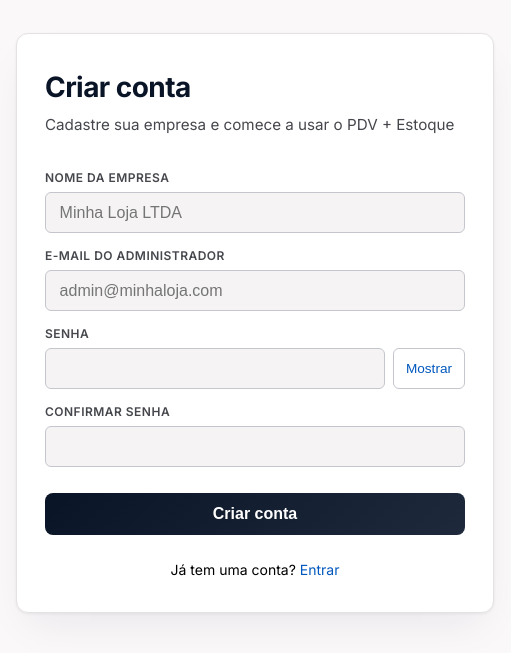
Test case: RegisterTenantPage › exibe mensagem de erro da API quando o registro falha
In the field labelled "Nome da empresa": (255, 213) top-left (45, 192), bottom-right (465, 233), type "Loja Duplicada"
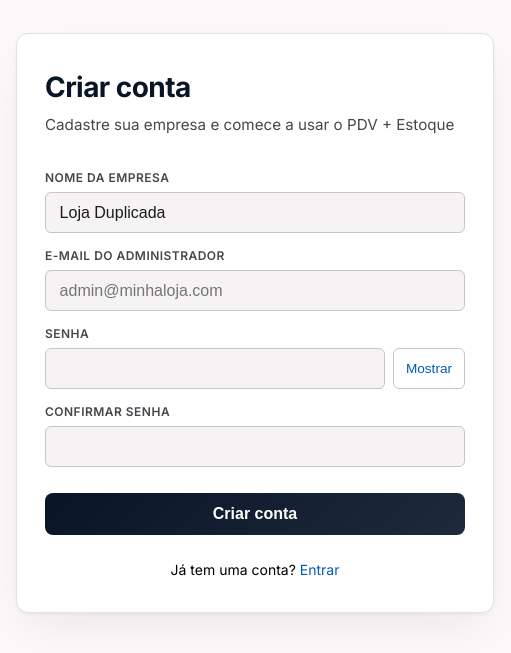
In the field labelled "E-mail do administrador": (255, 291) top-left (45, 270), bottom-right (465, 311), type "admin@dup.com"
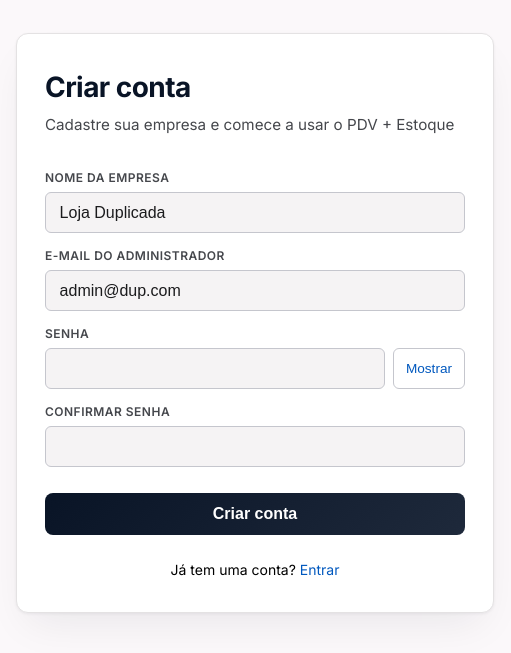
In the password field labelled "Senha": (215, 369) top-left (45, 348), bottom-right (385, 389), type "senha123"
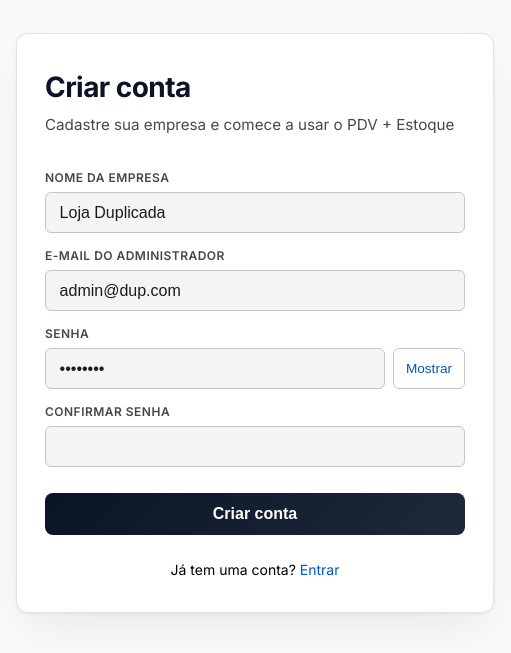
In the password field labelled "Confirmar senha": (255, 447) top-left (45, 426), bottom-right (465, 467), type "senha123"
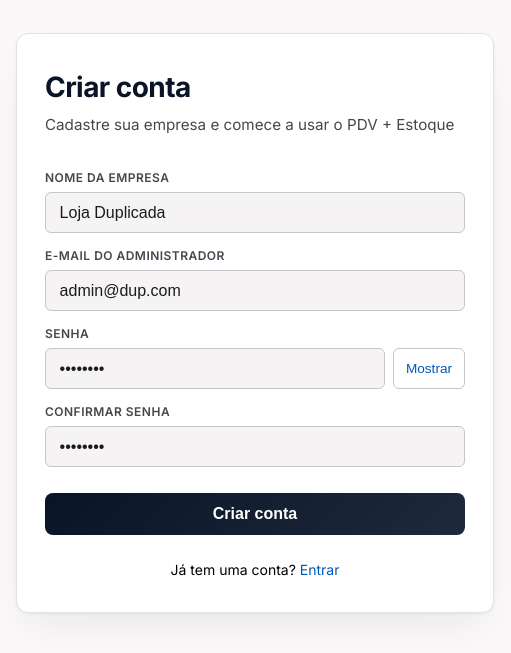
Click the button "Criar conta": (255, 514) top-left (45, 493), bottom-right (465, 535)
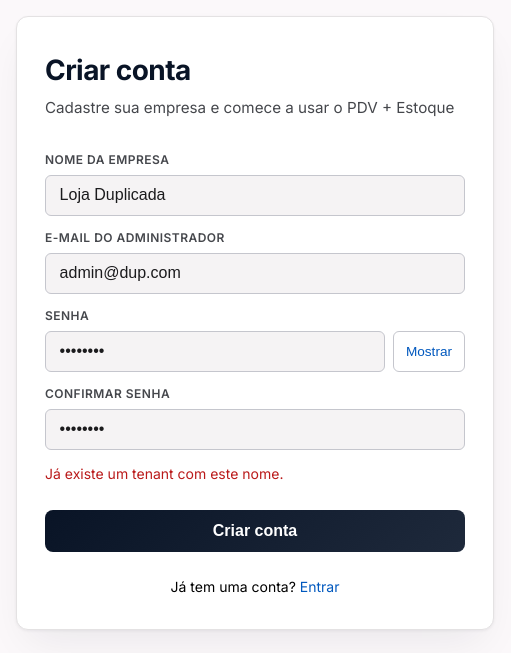
Expected: the message shows "Já existe um tenant", top-left (45, 465), bottom-right (283, 482)
